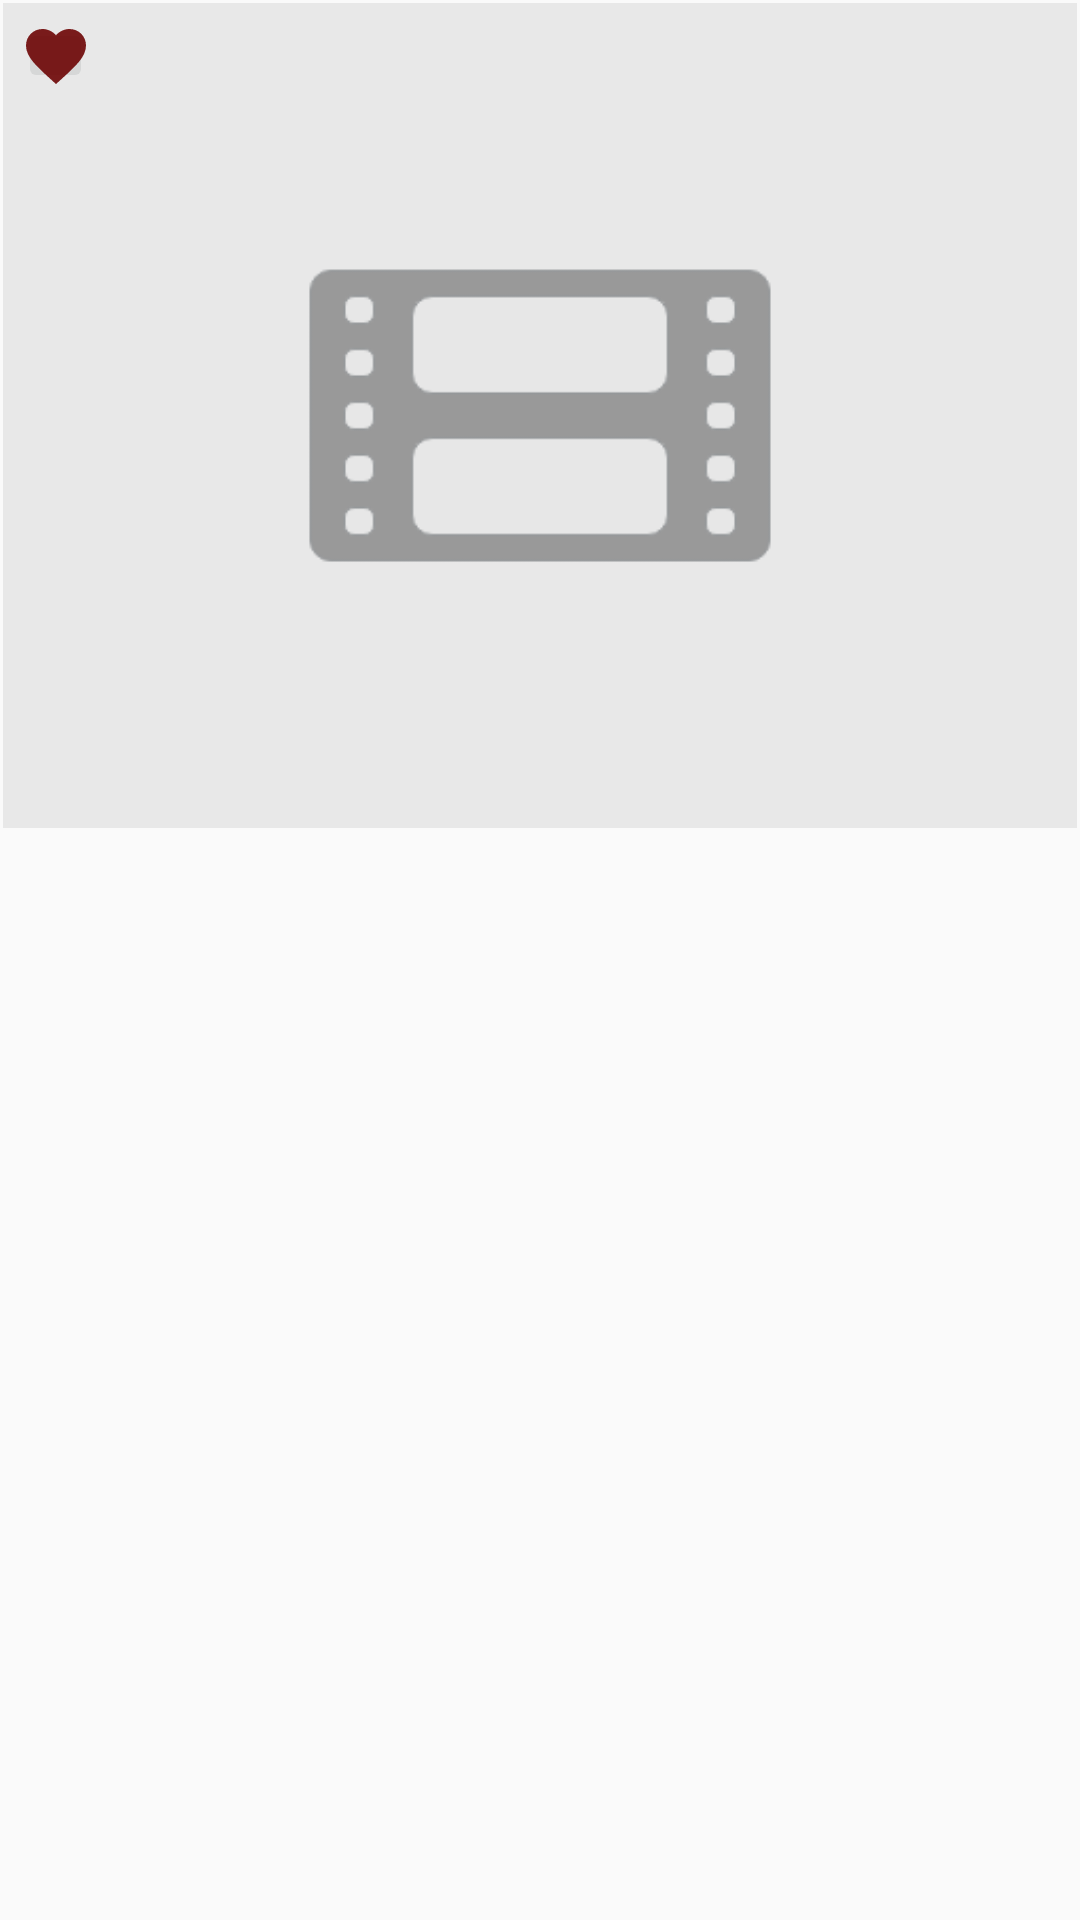

Locate icon controls on the screen. Image size 1080px x 1920px, boxes as (x1, y1, x2, y2).
fav: (26, 29, 86, 84)
